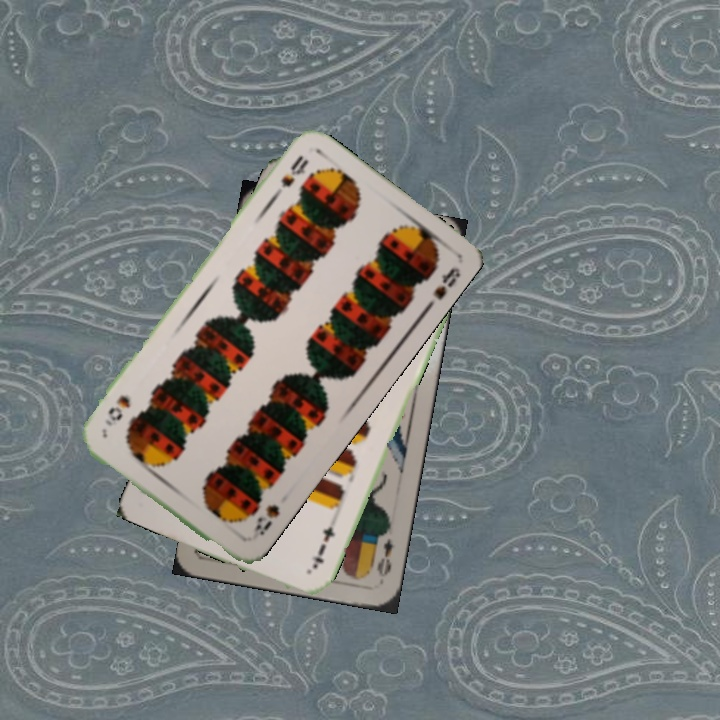E7: (307, 522, 338, 572)
EO: (373, 534, 396, 580)
S8: (269, 151, 311, 200), (247, 500, 283, 541)
